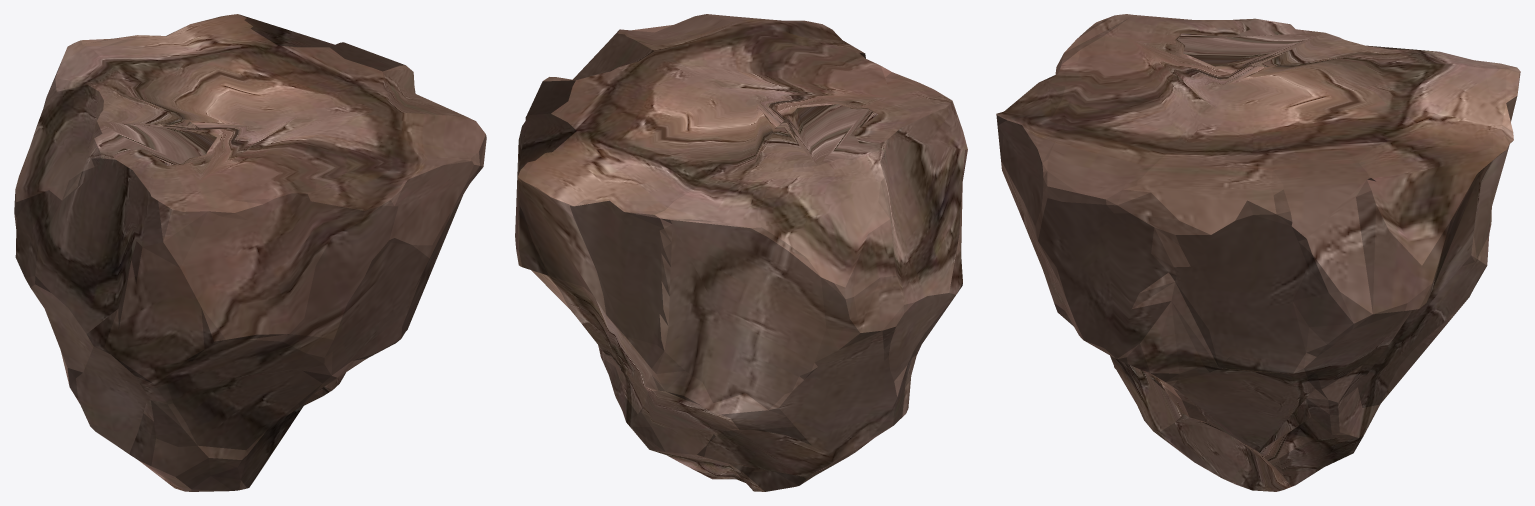
Rendered from platform02.fbx.
The picture shows the model from 3 angles, left to right: view 1: azimuth 30°, elevation 25°; view 2: azimuth 150°, elevation 25°; view 3: azimuth 270°, elevation 25°; orthographic projection. The views are drawn at different scales.
Parts seen in each view (by area): view 1: platform02; view 2: platform02; view 3: platform02.
Boxes of the visible parts, x1,y1,x2,y2 form: platform02: [14, 14, 486, 491]; platform02: [515, 14, 967, 491]; platform02: [996, 14, 1520, 491].
Bounding box in the file's own units: 4.39 × 4.92 × 4.16.
